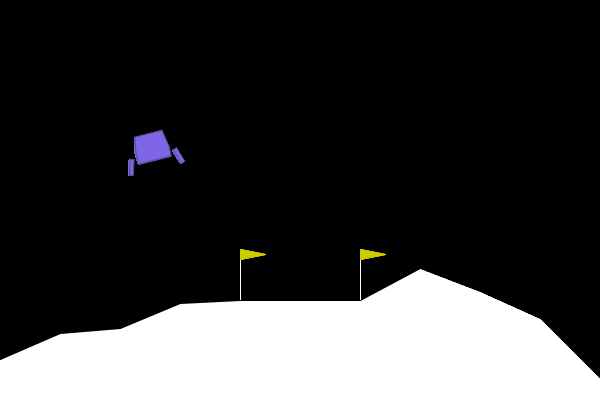lander: (118, 125, 186, 178)
